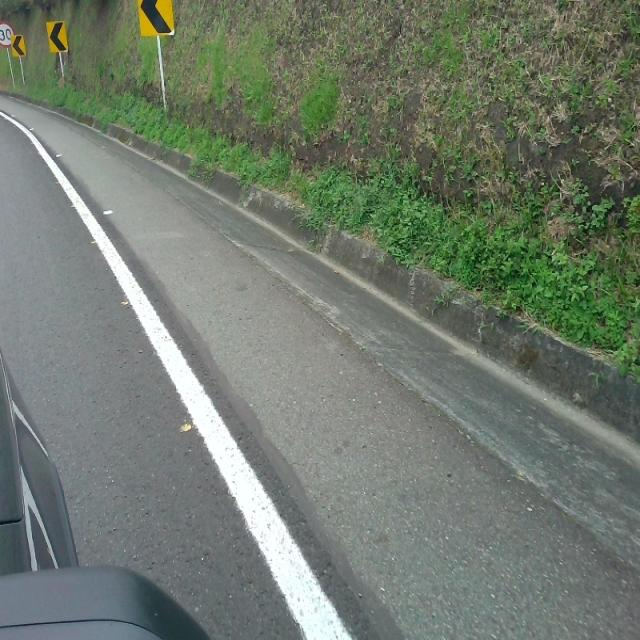DITCH: (43, 0, 638, 638), (1, 92, 638, 638)
